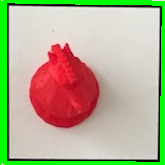Red Knight: (27, 41, 102, 131)
